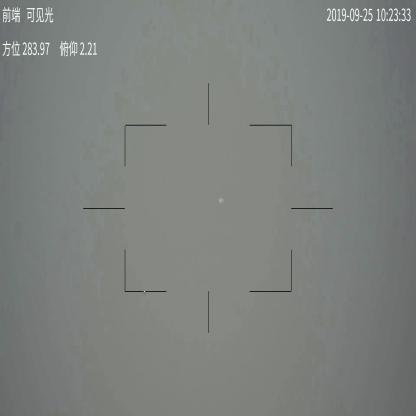uav: (217, 196, 226, 205)
